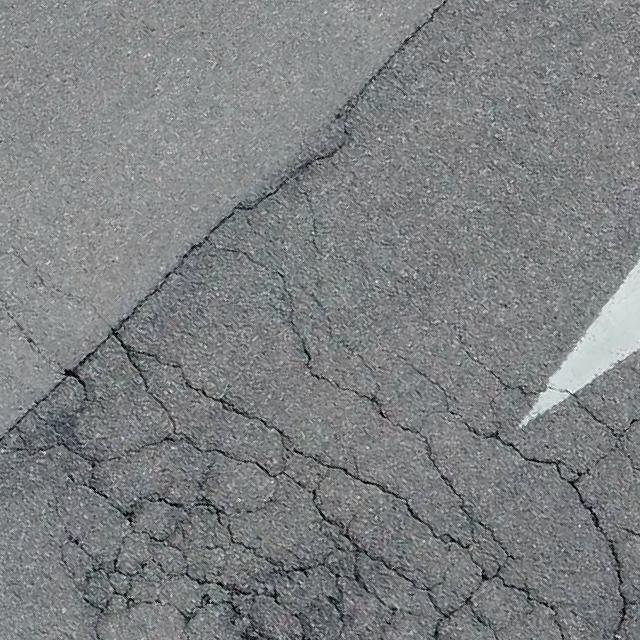GRIETA: (0, 0, 451, 444)
PIEL DE COCODRILO: (0, 174, 639, 639)
